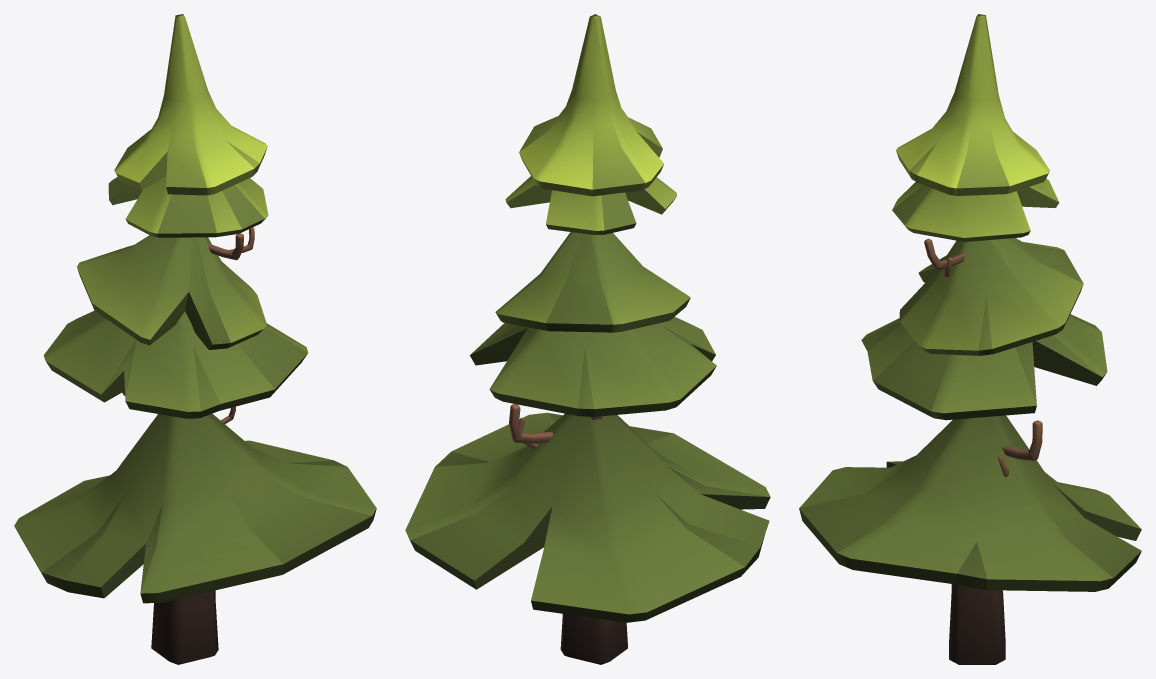
File: pine_tree_col1_03.fbx
The picture shows the model from 3 angles, left to right: view 1: azimuth 30°, elevation 25°; view 2: azimuth 150°, elevation 25°; view 3: azimuth 270°, elevation 25°; orthographic projection.
Visible parts, largest first — view 1: tree_pine_col1_03; view 2: tree_pine_col1_03; view 3: tree_pine_col1_03.
Boxes of the visible parts, x1,y1,x2,y2 form: tree_pine_col1_03: (14,14,376,664); tree_pine_col1_03: (405,14,770,664); tree_pine_col1_03: (799,14,1141,664).
Bounding box in the file's own units: 587 × 1190 × 578.
Materials: 1 (1 with a texture image).
